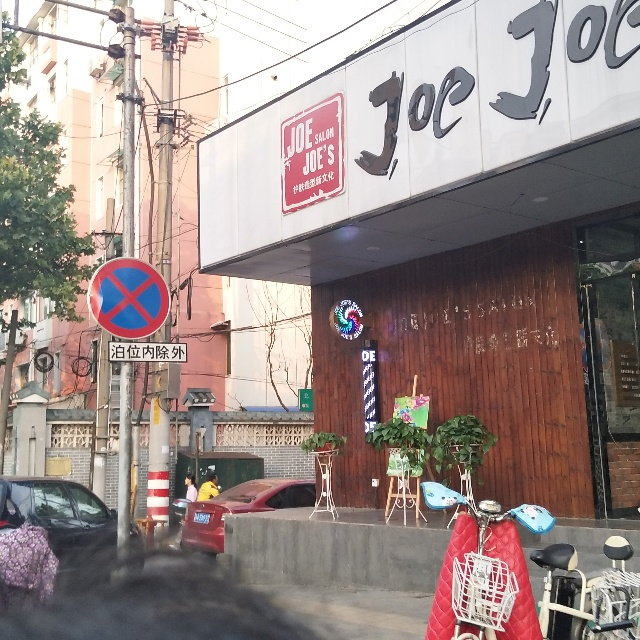stop: (87, 258, 171, 340)
